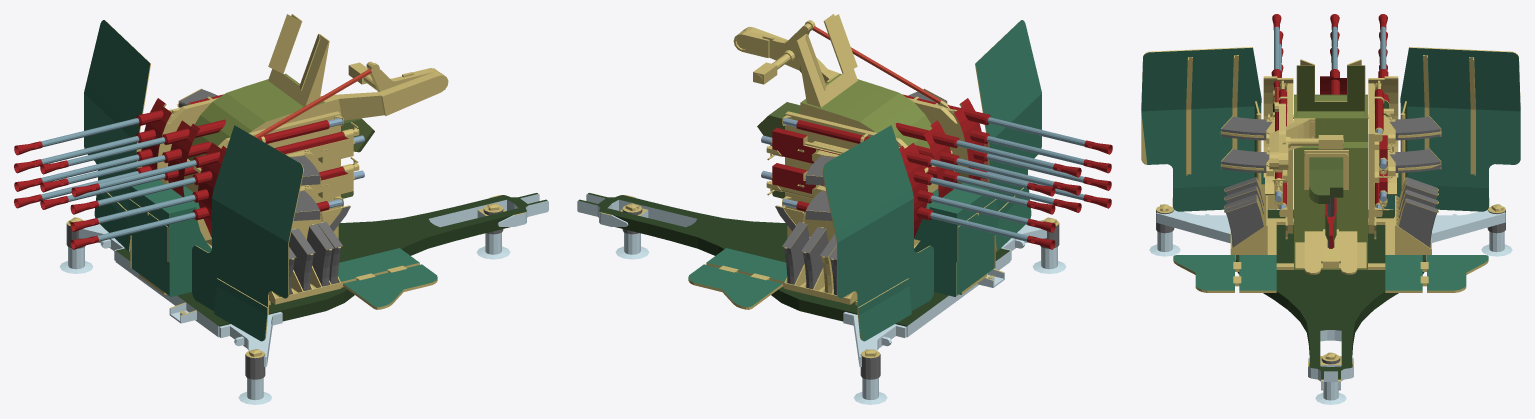
File: Flack38-5.fbx
3 renders of one model, left to right at view 1: azimuth 30°, elevation 25°; view 2: azimuth 150°, elevation 25°; view 3: azimuth 270°, elevation 25°, orthographic. The views are drawn at different scales.
Visible parts, largest first — view 1: pasted__pasted__pasted__base, attack; view 2: pasted__pasted__pasted__base, attack; view 3: pasted__pasted__pasted__base, attack.
Boxes of the visible parts, <box> form: pasted__pasted__pasted__base: <box>59,14,548,404</box>; attack: <box>14,110,225,249</box>; pasted__pasted__pasted__base: <box>577,14,1066,404</box>; attack: <box>895,105,1112,249</box>; pasted__pasted__pasted__base: <box>1141,47,1520,404</box>; attack: <box>1271,14,1388,97</box>.
Size of the model in its own units: 482 by 252 by 342.
